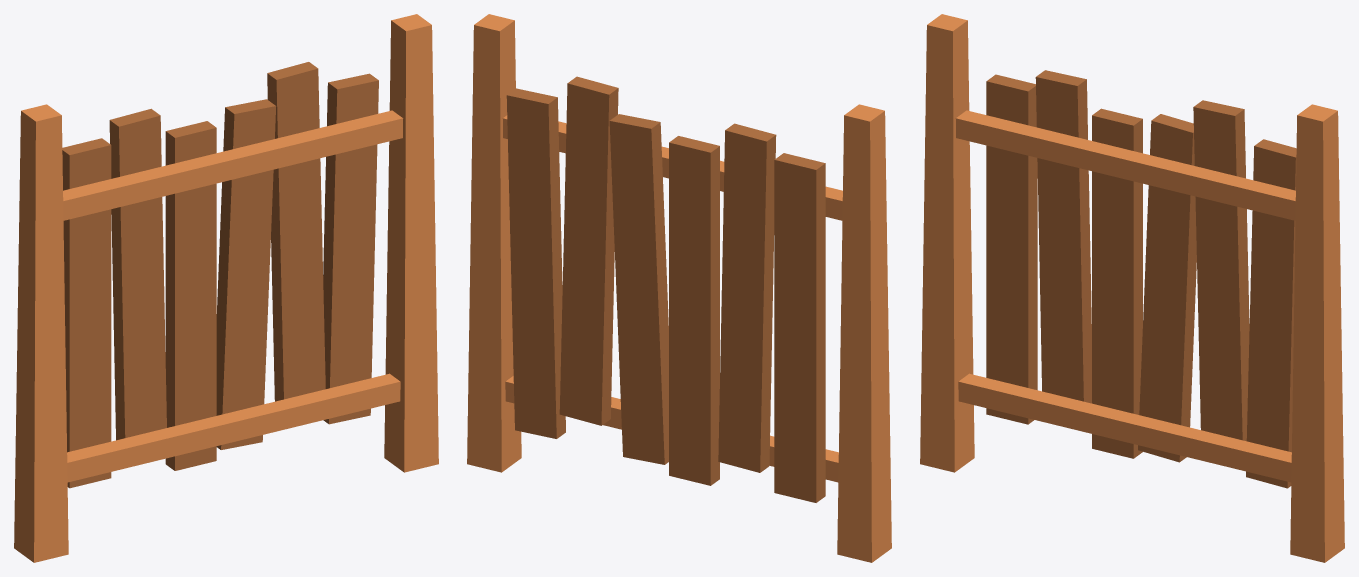
Rendered from fenceFortified.dae.
The picture shows the model from 3 angles, left to right: view 1: azimuth 30°, elevation 25°; view 2: azimuth 150°, elevation 25°; view 3: azimuth 330°, elevation 25°; orthographic projection.
Visible parts, largest first — view 1: fenceFortified; view 2: fenceFortified; view 3: fenceFortified.
Boxes of the visible parts, x1=… form: fenceFortified: x1=14, y1=14, x2=438, y2=562; fenceFortified: x1=467, y1=14, x2=891, y2=562; fenceFortified: x1=920, y1=14, x2=1344, y2=562.
Size of the model in its own units: 0.5 by 0.5175 by 0.053.
